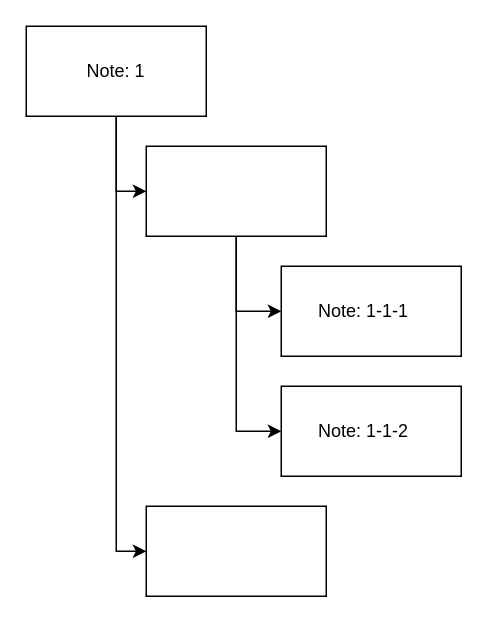
Image size: 488x623. Some labels were removed from this diagram. The centre of each missing label's shape, as x and y in pixels:
Note: 1-1: point (235, 190)
Note: 1-2: point (235, 550)
